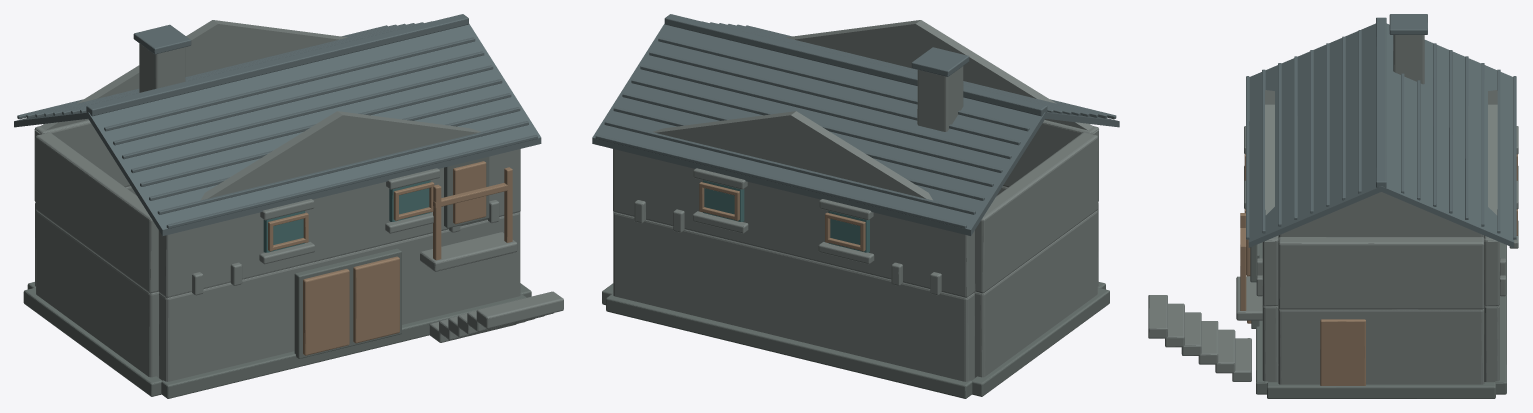
The model's file is barrosan_house_gold_02.glb.
3 views of the same model, side by side, from view 1: azimuth 30°, elevation 25°; view 2: azimuth 150°, elevation 25°; view 3: azimuth 270°, elevation 25° (orthographic). The views are drawn at different scales.
Visible parts, largest first — view 1: LOD0_Granite, LOD0_Weathered_Slate, LOD1_Weathered_Slate, LOD0_Weathered_Timber, LOD0_Dark_Foundation, LOD1_Granite, LOD0_Recessed_Window, LOD1_Dark_Foundation, LOD1_Weathered_Timber; view 2: LOD0_Granite, LOD0_Weathered_Slate, LOD1_Weathered_Slate, LOD1_Granite, LOD0_Dark_Foundation, LOD0_Recessed_Window, LOD0_Weathered_Timber, LOD1_Dark_Foundation; view 3: LOD0_Granite, LOD0_Weathered_Slate, LOD1_Weathered_Slate, LOD0_Dark_Foundation, LOD0_Weathered_Timber, LOD1_Granite, LOD1_Dark_Foundation.
Boxes of the visible parts, bbox=[...] form: LOD0_Granite: bbox=[34, 20, 563, 381]; LOD0_Weathered_Slate: bbox=[14, 14, 541, 235]; LOD1_Weathered_Slate: bbox=[14, 18, 541, 235]; LOD0_Weathered_Timber: bbox=[268, 161, 512, 355]; LOD0_Dark_Foundation: bbox=[23, 156, 531, 398]; LOD1_Granite: bbox=[34, 20, 563, 381]; LOD0_Recessed_Window: bbox=[263, 180, 430, 252]; LOD1_Dark_Foundation: bbox=[23, 252, 530, 398]; LOD1_Weathered_Timber: bbox=[270, 161, 512, 355]; LOD0_Granite: bbox=[613, 20, 1098, 381]; LOD0_Weathered_Slate: bbox=[592, 14, 1119, 235]; LOD1_Weathered_Slate: bbox=[592, 18, 1119, 235]; LOD1_Granite: bbox=[613, 20, 1098, 381]; LOD0_Dark_Foundation: bbox=[602, 282, 1109, 398]; LOD0_Recessed_Window: bbox=[703, 180, 869, 252]; LOD0_Weathered_Timber: bbox=[699, 182, 865, 251]; LOD1_Dark_Foundation: bbox=[602, 283, 1109, 398]; LOD0_Granite: bbox=[1148, 35, 1518, 384]; LOD0_Weathered_Slate: bbox=[1246, 14, 1516, 247]; LOD1_Weathered_Slate: bbox=[1246, 18, 1516, 247]; LOD0_Dark_Foundation: bbox=[1250, 242, 1506, 398]; LOD0_Weathered_Timber: bbox=[1240, 154, 1517, 385]; LOD1_Granite: bbox=[1149, 35, 1518, 384]; LOD1_Dark_Foundation: bbox=[1252, 245, 1506, 397].
Size of what is drawn, in the model's own units: 10.3 by 7.26 by 9.71.
